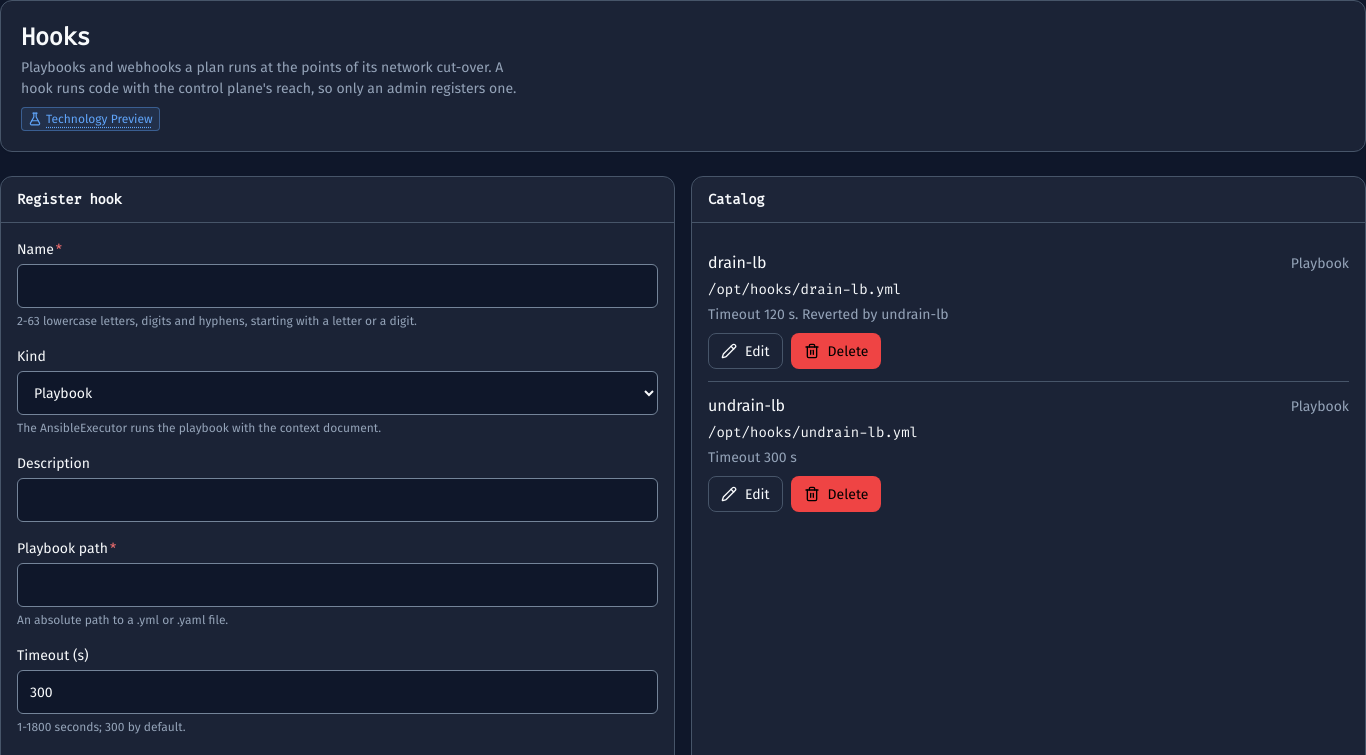
Test: the hook catalog (SDD §16, §23.3, plan task N12a) › edits a hook with its name and kind read only, and says why one in use cannot be deleted
Expected: the list item "drain-lb" shows "Reverted by undrain-lb", [795,306,949,323]
Click the button with aria-label "Edit drain-lb". click: click(745, 351)
box: [708,333,783,369]
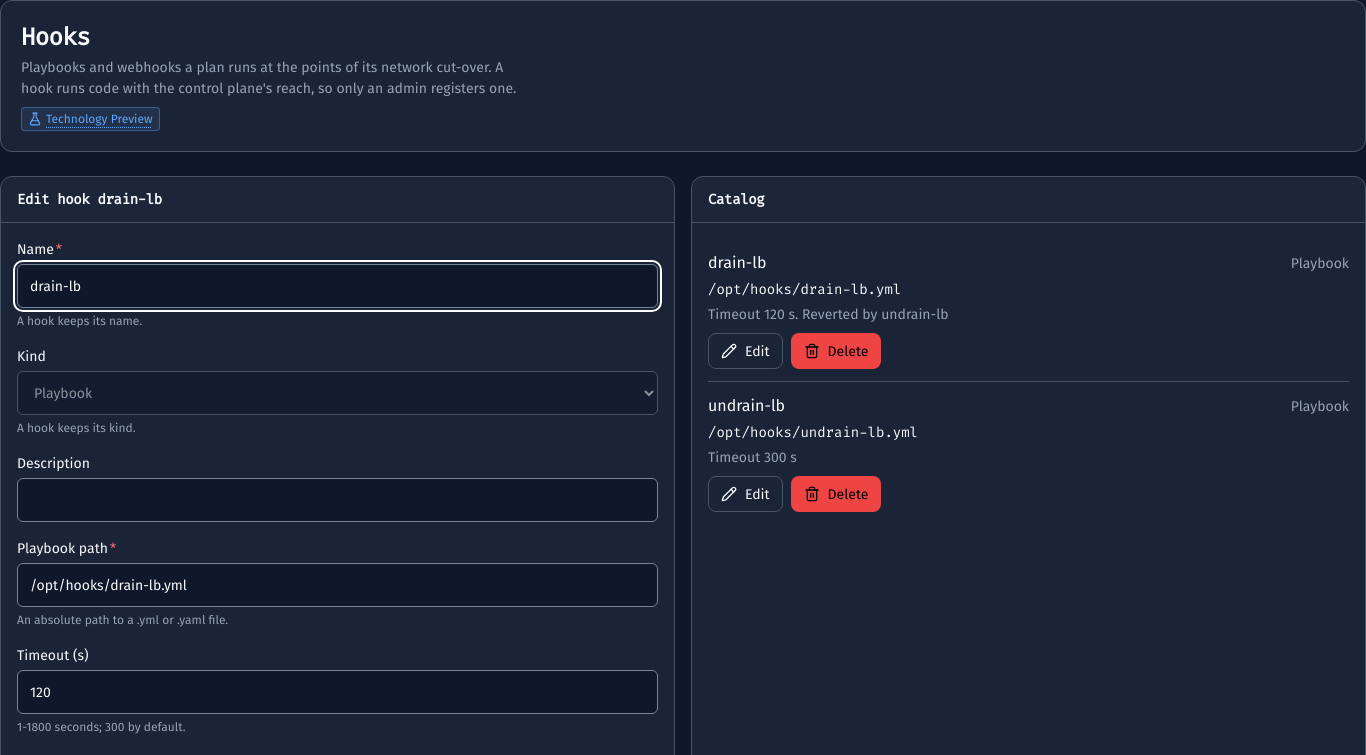
Expected: the dropdown labelled "Kind" is disabled, [17,371,658,415]
Replace the text in the field labelled "Timeout (s)" with "90". click: (338, 692)
box: [17,670,658,714]
(page scrolled)
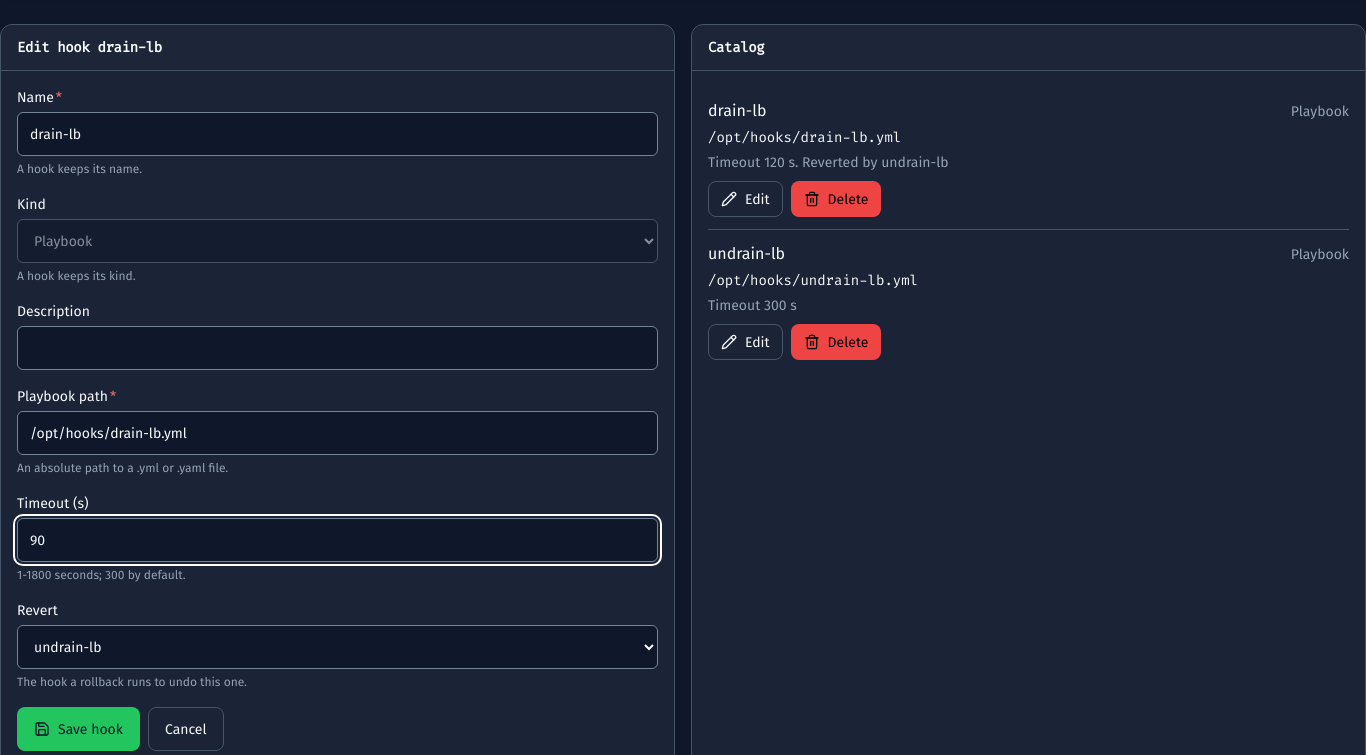
Click the button "Save hook". click: click(78, 729)
box: [17,707,140,751]
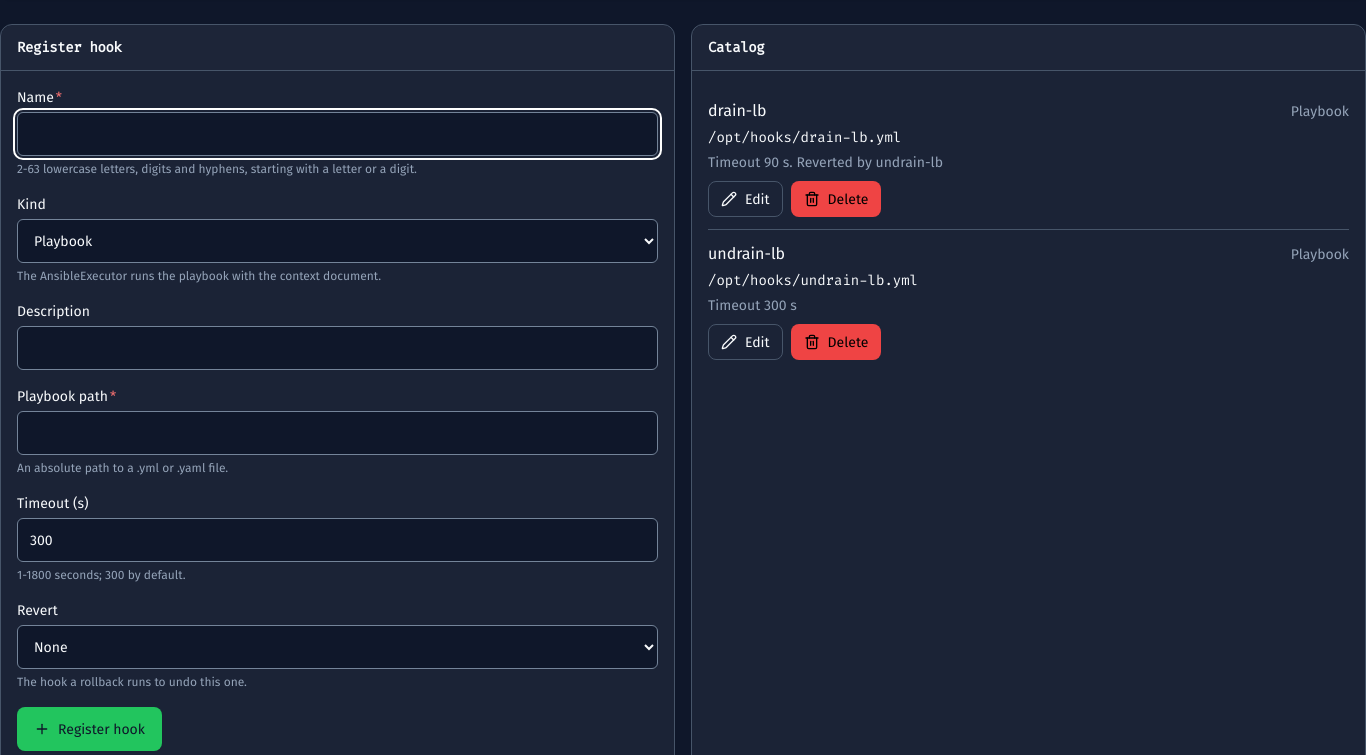
# undrain-lb is drain-lb's revert: the API refuses, and its reason is shown
Click the button "Delete" below "/opt/hooks/undrain-lb.yml". click: click(836, 342)
box: [791,324,881,360]
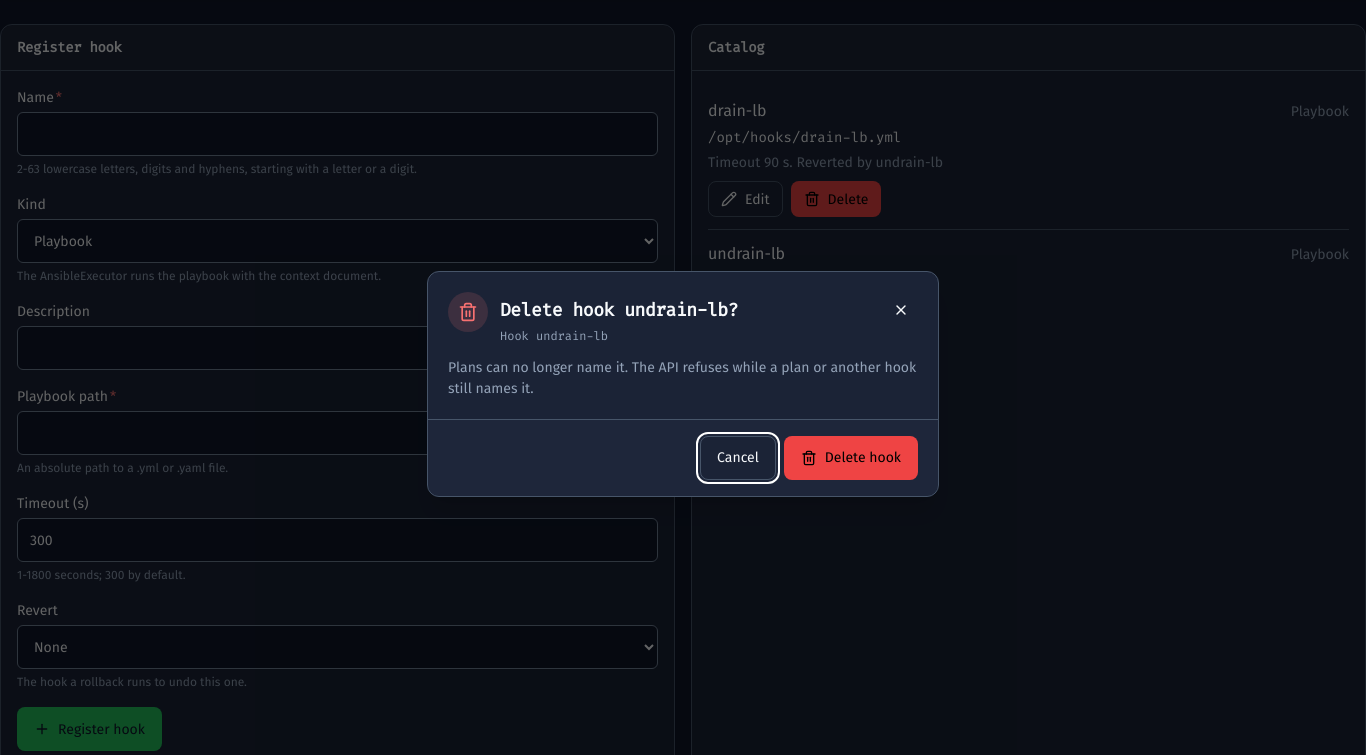
Click the button "Delete hook". click: click(851, 458)
box: [784,436,918,480]
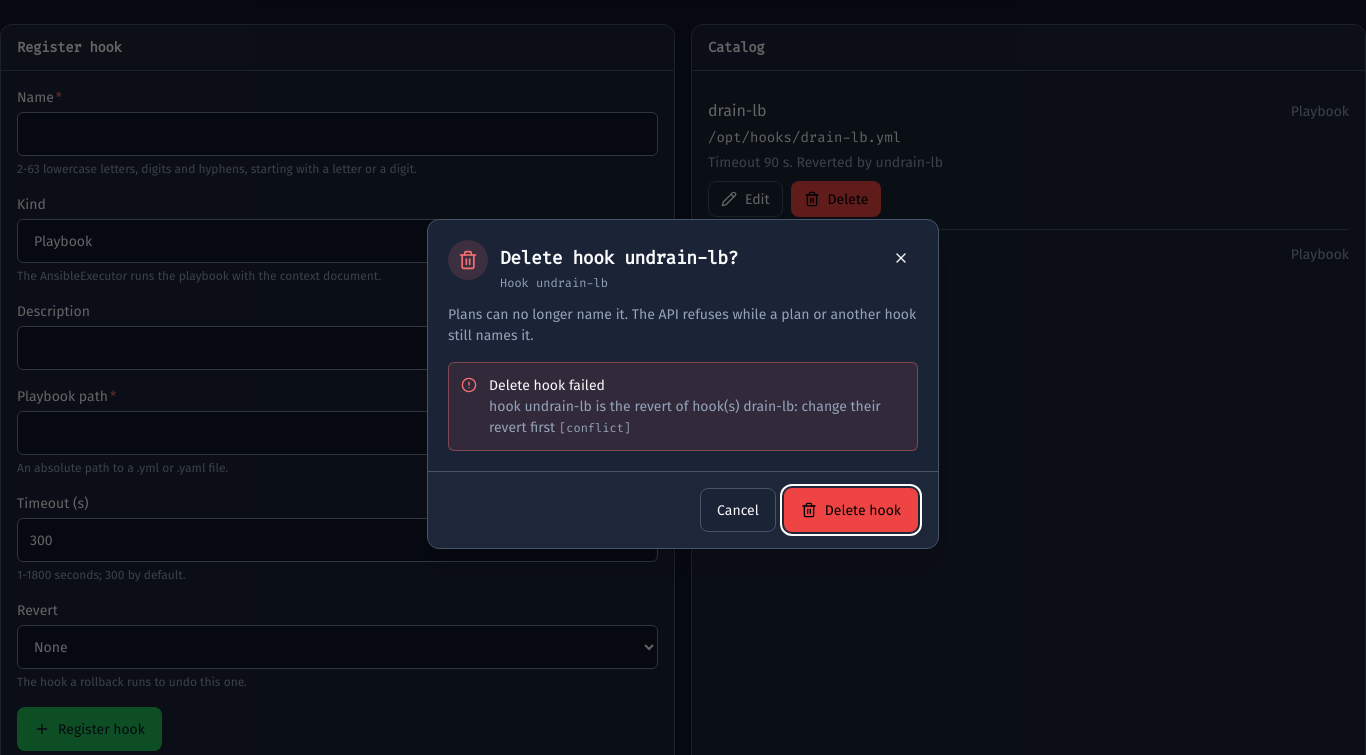
Expected: the message shows "hook undrain-lb is the revert of hook(s) drain-lb: change their revert first", [489,398,881,436]
